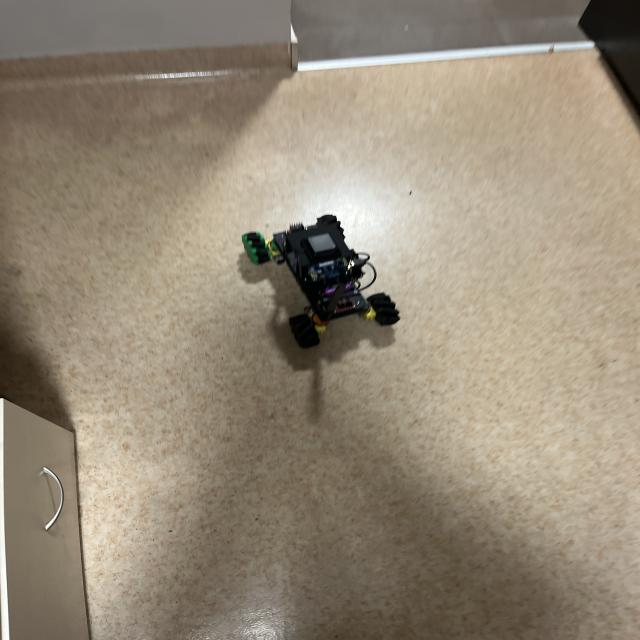robot: (242, 215, 399, 348)
